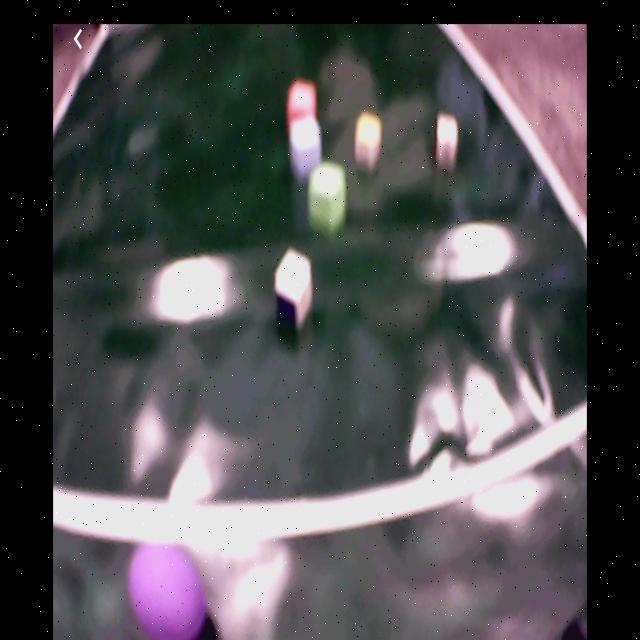ball: (129, 542, 207, 638)
